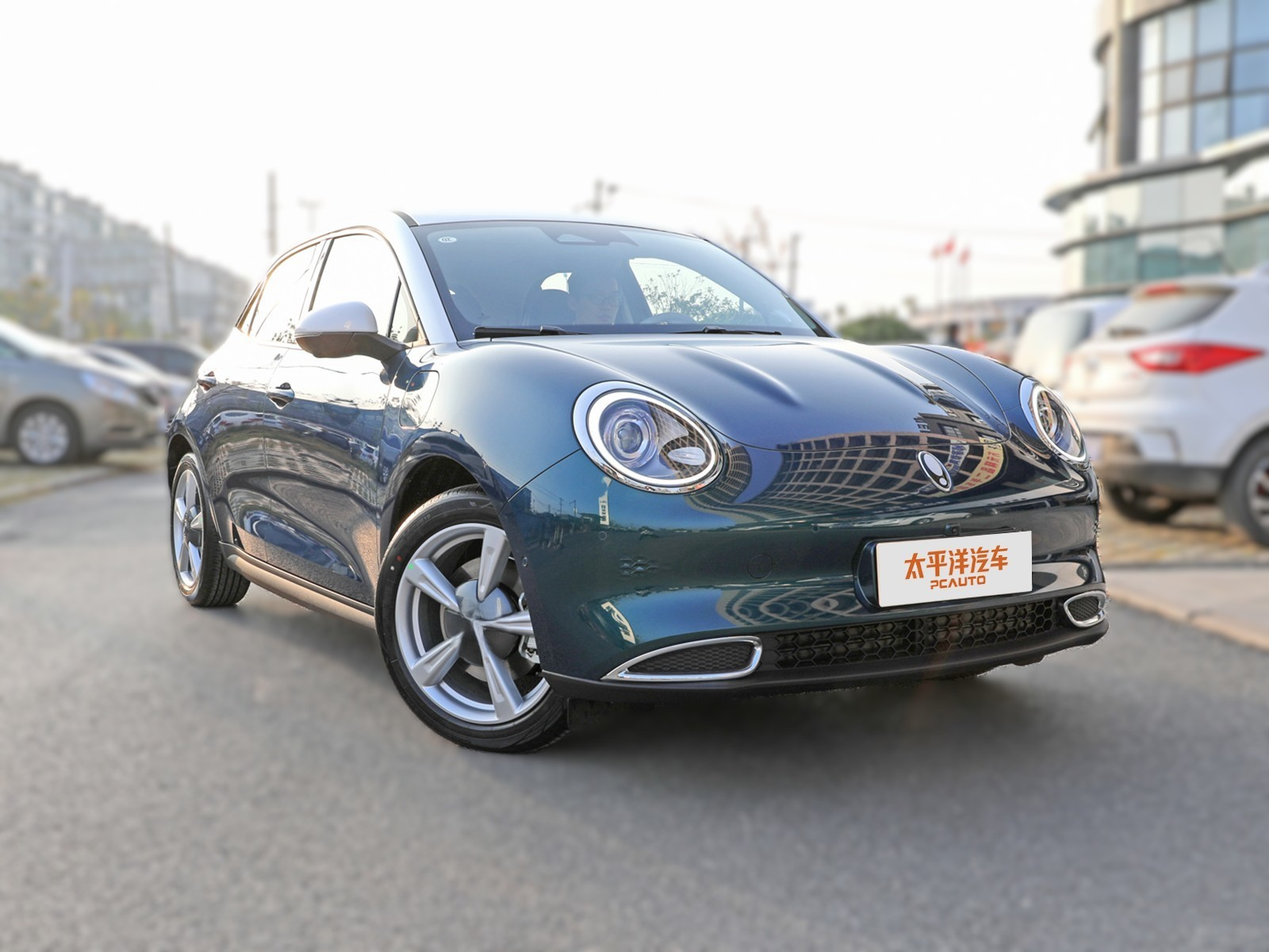ORA: (918, 451, 951, 490)
